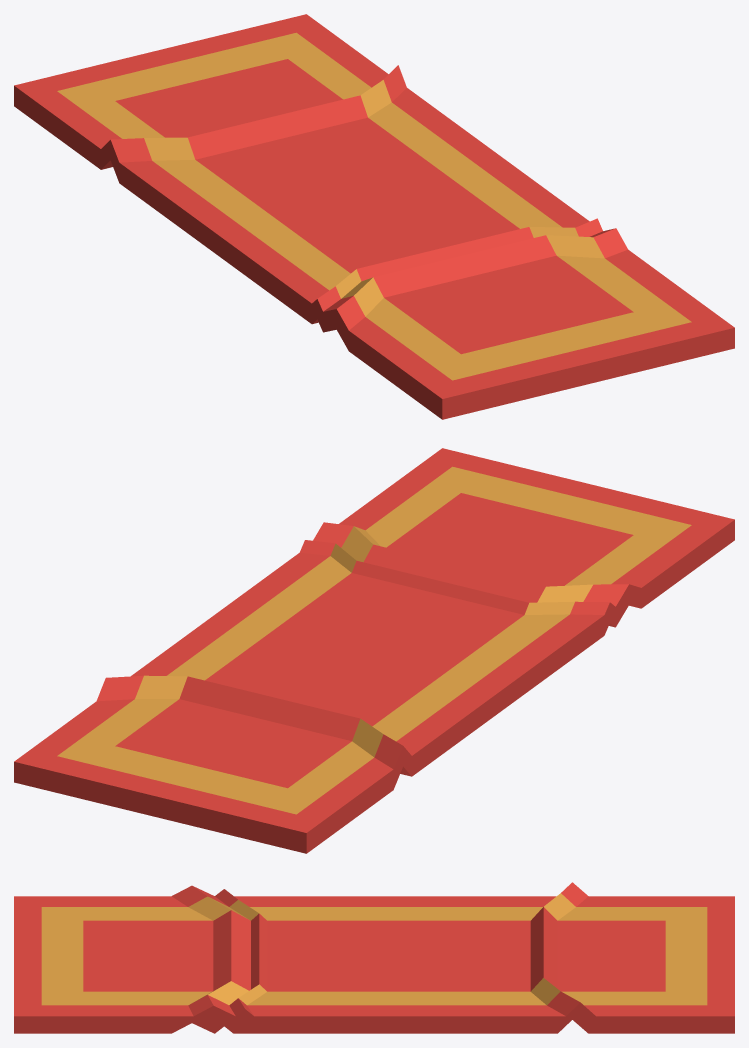
The model's file is Crypt_Carpet.glb.
3 views of the same model, one above another, from view 1: azimuth 30°, elevation 25°; view 2: azimuth 150°, elevation 25°; view 3: azimuth 270°, elevation 25° (orthographic). The views are drawn at different scales.
Parts seen in each view (by area): view 1: Carpet; view 2: Carpet; view 3: Carpet.
Part boxes in pixels (left/top/right/bottom): Carpet: left=14, top=14, right=734, bottom=419; Carpet: left=14, top=448, right=734, bottom=853; Carpet: left=14, top=882, right=734, bottom=1033.
Size of the model in its own units: 2.11 by 0.258 by 5.35.
